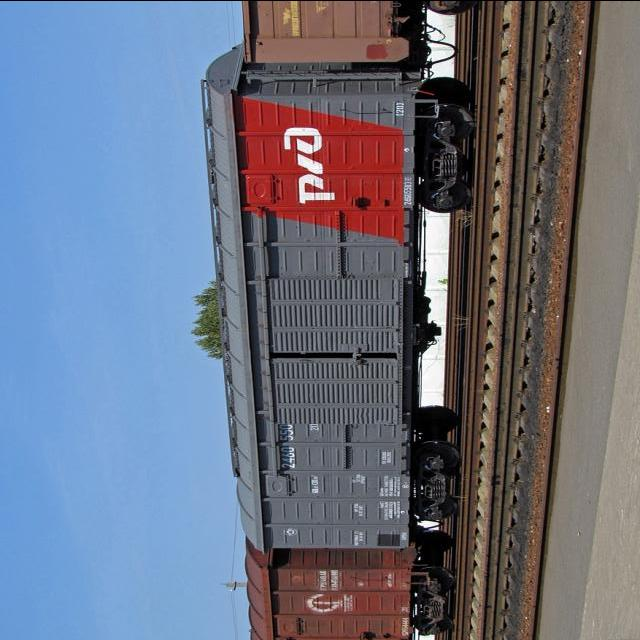wagon: (276, 422, 300, 469)
